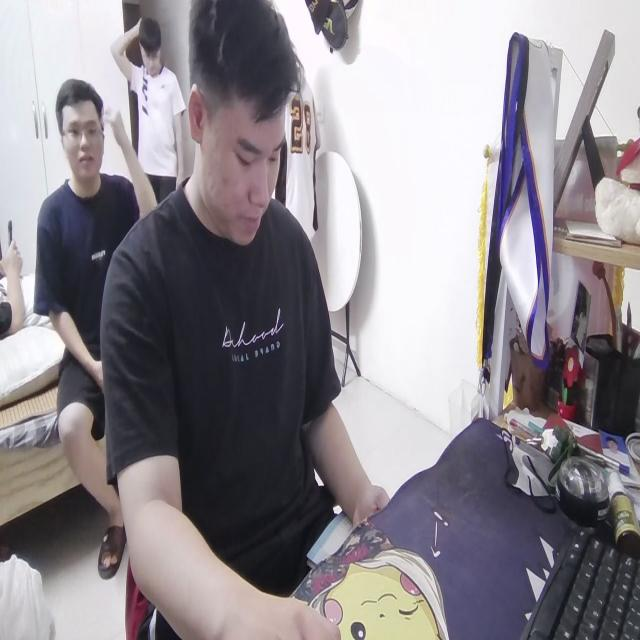book: (306, 508, 360, 568)
extra_person: (35, 81, 149, 542), (111, 11, 186, 214)
student: (104, 0, 396, 640)
